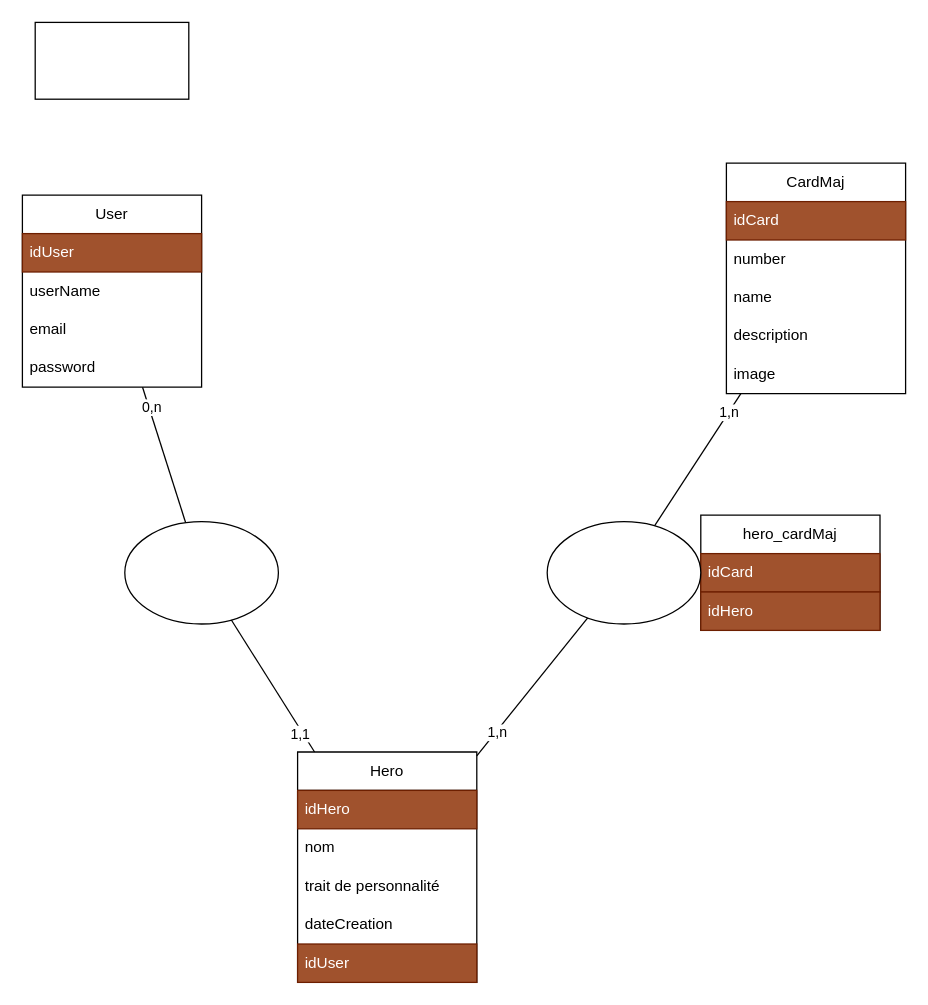
Image size: 928x1005. Some labels were removed from this diagram. The centre of each missing label's shape, as x and y in pixels:
"le tirage de 3 cartes crée le héros" belongs at pixel 623 572.
"MCD" belongs at pixel 111 60.
"utilisateur crée un héros" belongs at pixel 201 572.
